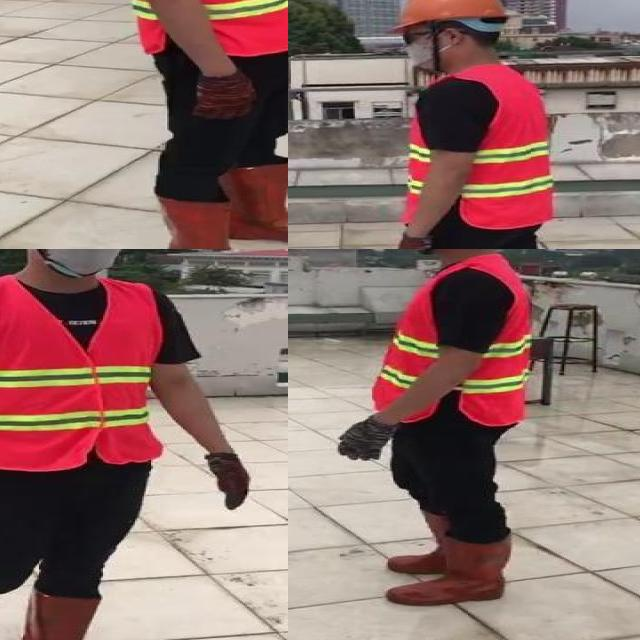boots: (390, 536, 509, 609), (158, 194, 288, 249), (382, 507, 488, 573), (21, 587, 131, 640), (224, 164, 288, 247)
face_mask: (40, 249, 136, 278), (396, 28, 449, 68)
hand_glove: (202, 452, 250, 511), (336, 419, 394, 461), (395, 234, 440, 249)
head_helmet: (390, 0, 511, 26)
person: (0, 249, 264, 640), (323, 249, 549, 621), (324, 0, 594, 249), (63, 0, 288, 249)
vest: (0, 280, 161, 470), (368, 256, 532, 425), (400, 67, 554, 228), (94, 0, 288, 55)
